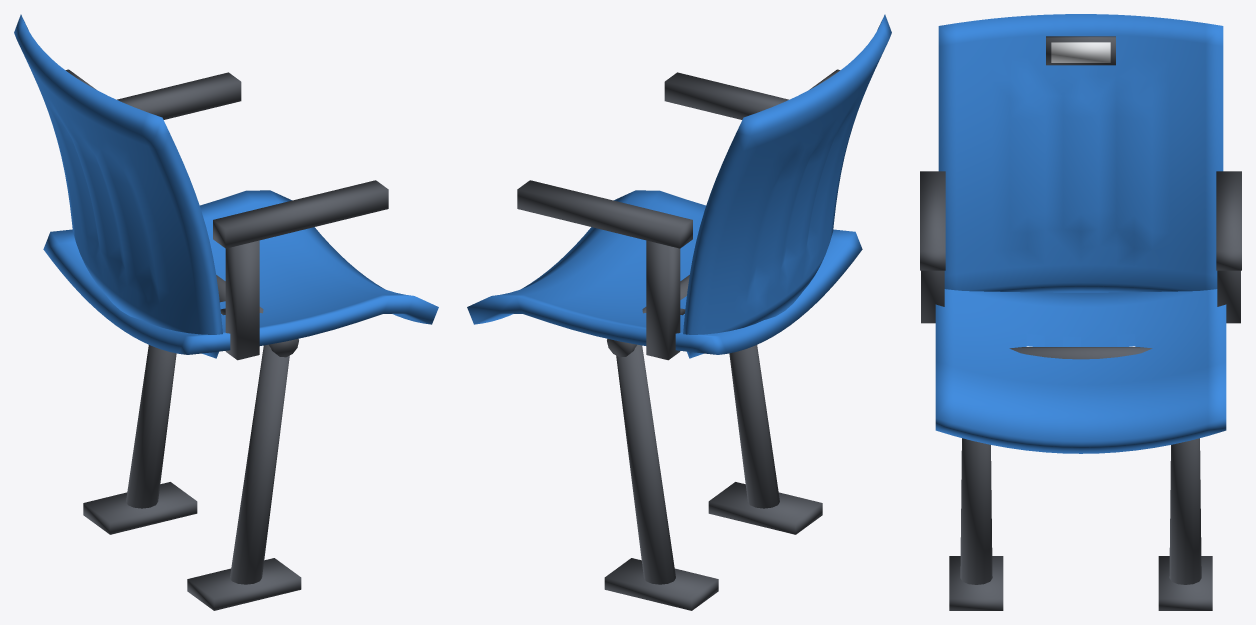
Rendered from seat_lod0.glb.
The picture shows the model from 3 angles, left to right: view 1: azimuth 30°, elevation 25°; view 2: azimuth 150°, elevation 25°; view 3: azimuth 270°, elevation 25°; orthographic projection.
Parts seen in each view (by area): view 1: SEAT_MASTER_LOD0; view 2: SEAT_MASTER_LOD0; view 3: SEAT_MASTER_LOD0.
Part boxes in pixels (left/top/right/bottom): SEAT_MASTER_LOD0: left=14, top=14, right=438, bottom=610; SEAT_MASTER_LOD0: left=467, top=14, right=891, bottom=610; SEAT_MASTER_LOD0: left=920, top=14, right=1241, bottom=610.
Size of the model in its own units: 0.527 by 0.8435 by 0.4766.
